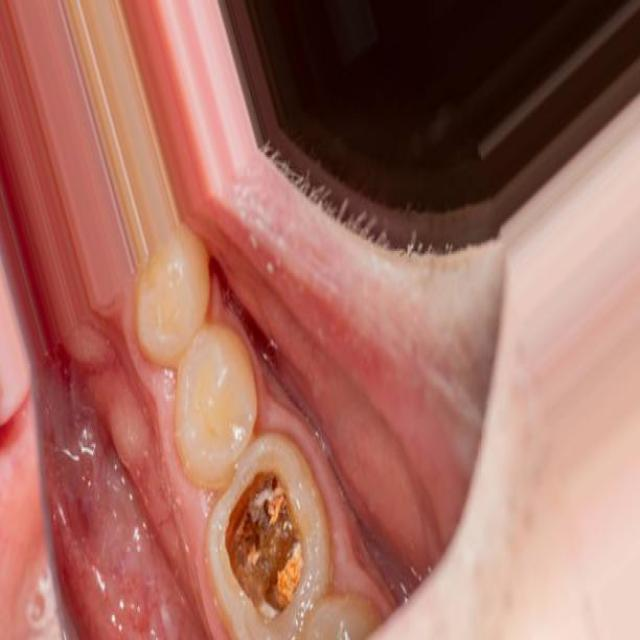caries: (207, 452, 316, 633)
